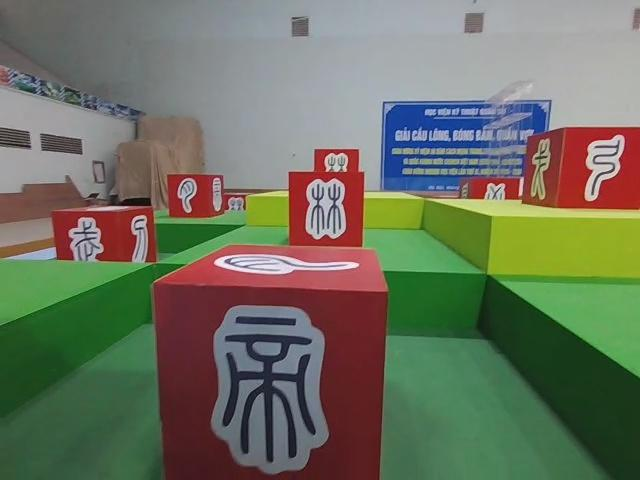R2 Fake: (145, 243, 393, 480), (516, 124, 640, 216), (47, 201, 156, 277), (284, 167, 370, 248), (162, 169, 225, 219)
